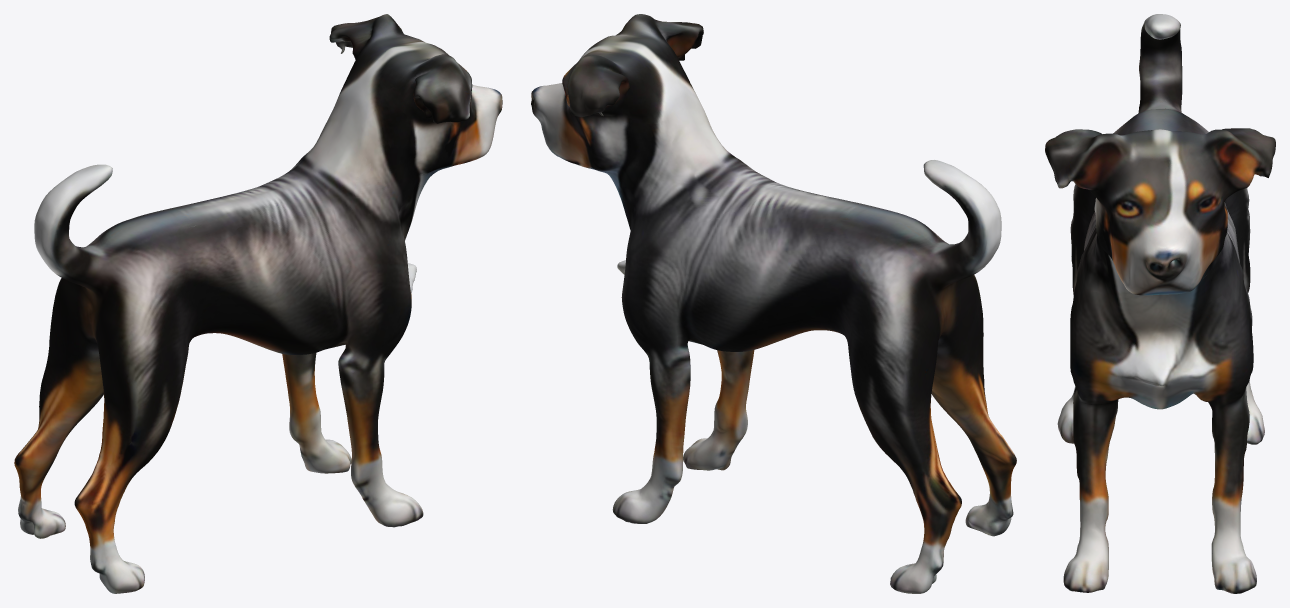
The picture shows the model from 3 angles, left to right: view 1: azimuth 30°, elevation 25°; view 2: azimuth 150°, elevation 25°; view 3: azimuth 270°, elevation 25°; orthographic projection. The views are drawn at different scales.
Visible parts, largest first — view 1: tripo_node_92d7fa5f-561e-4b3b-9554-993e611e180b; view 2: tripo_node_92d7fa5f-561e-4b3b-9554-993e611e180b; view 3: tripo_node_92d7fa5f-561e-4b3b-9554-993e611e180b.
Part boxes in pixels (<box>): tripo_node_92d7fa5f-561e-4b3b-9554-993e611e180b: <box>14,14,502,593</box>; tripo_node_92d7fa5f-561e-4b3b-9554-993e611e180b: <box>531,14,1016,593</box>; tripo_node_92d7fa5f-561e-4b3b-9554-993e611e180b: <box>1045,14,1275,593</box>.
Size of the model in its own units: 0.7785 by 0.7114 by 0.3098.
Materials: 1 (1 with a texture image).
